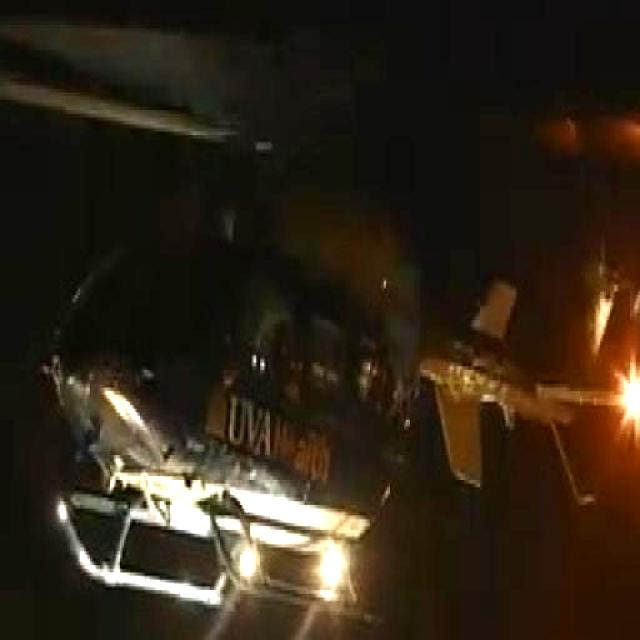drone: (0, 6, 640, 622)
